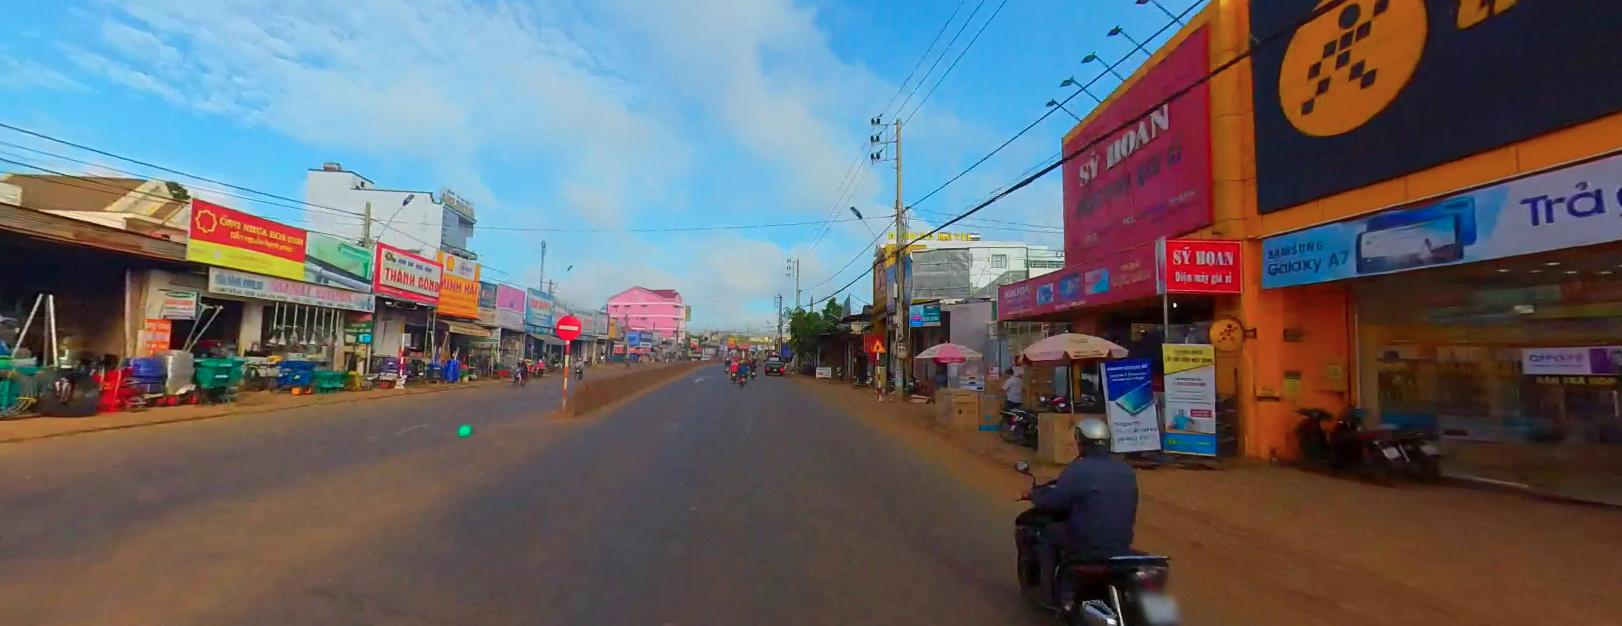Cam nguoc chieu: (555, 312, 581, 338)
Nguy hiem: (871, 338, 887, 351)
